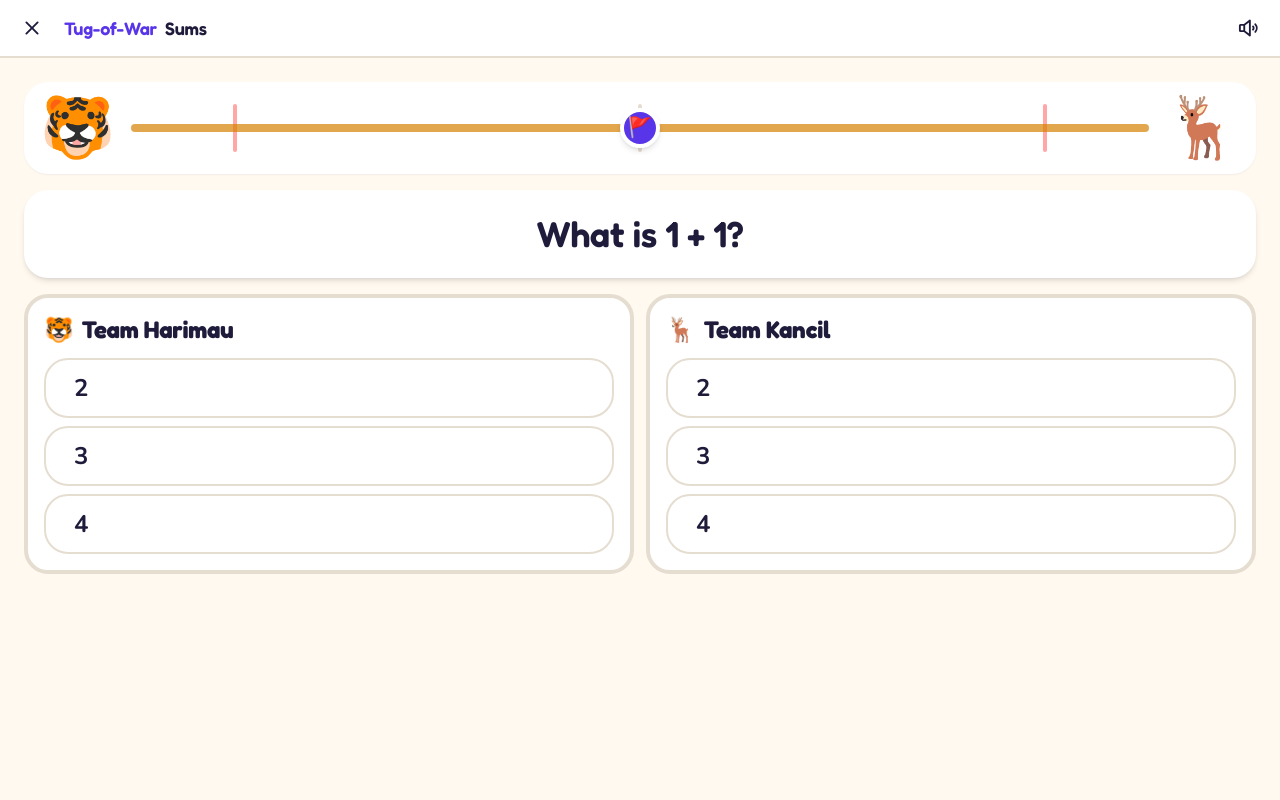
Tug-of-War › is won by the first team to pull the rope five steps
The width and height of the screenshot is (1280, 800).
Click the button named "Team Kancil: 2".
click(703, 388)  # box [666,358,1236,418]
Wait 1550 ms
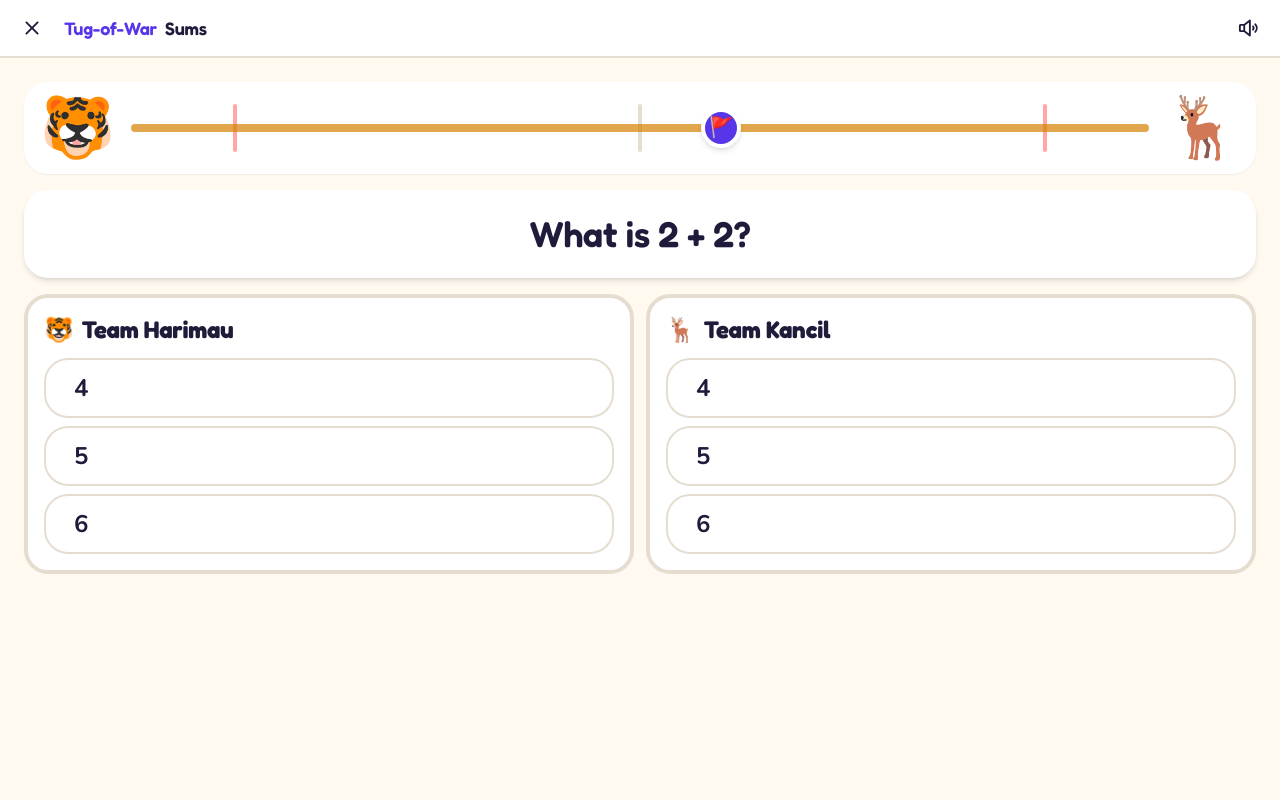
Click the button named "Team Kancil: 4".
click(703, 388)  # box [666,358,1236,418]
Wait 1550 ms
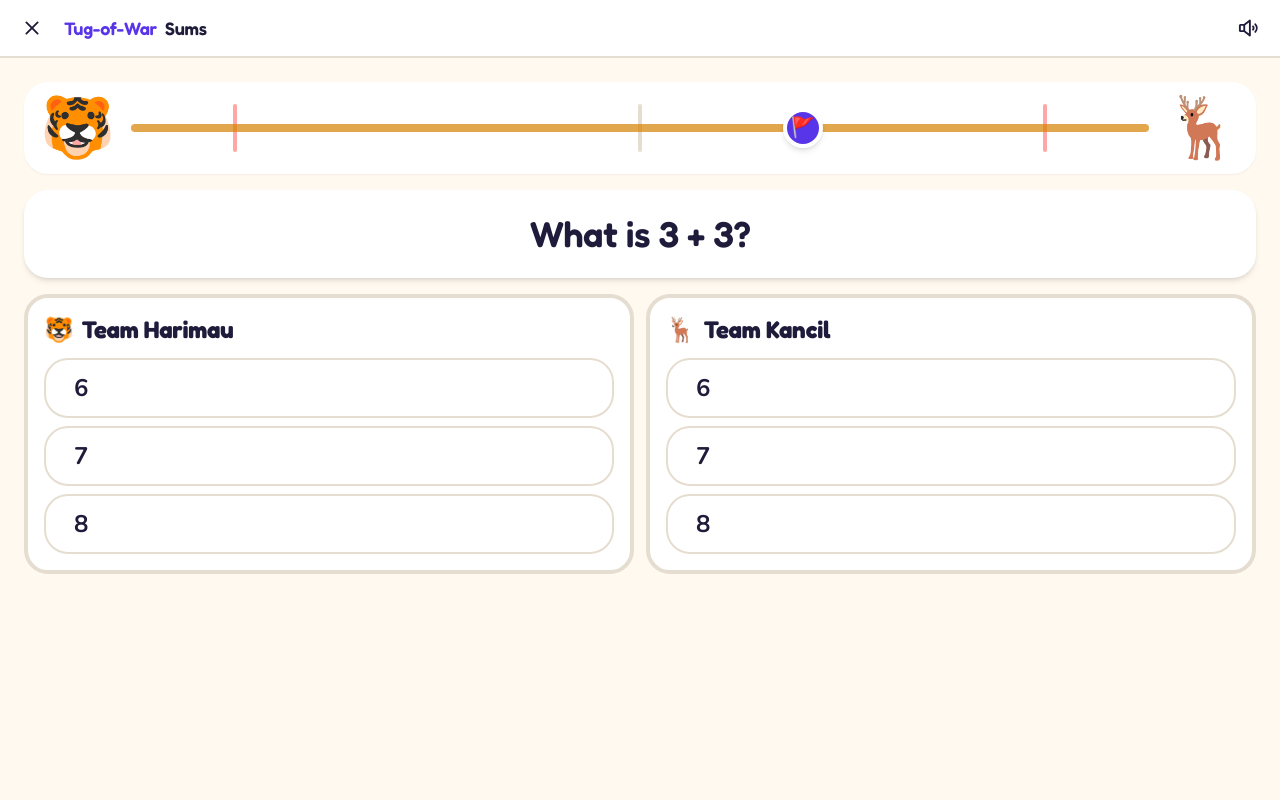
Click the button "6" below "Team Kancil".
click(703, 388)  # box [666,358,1236,418]
Wait 1550 ms
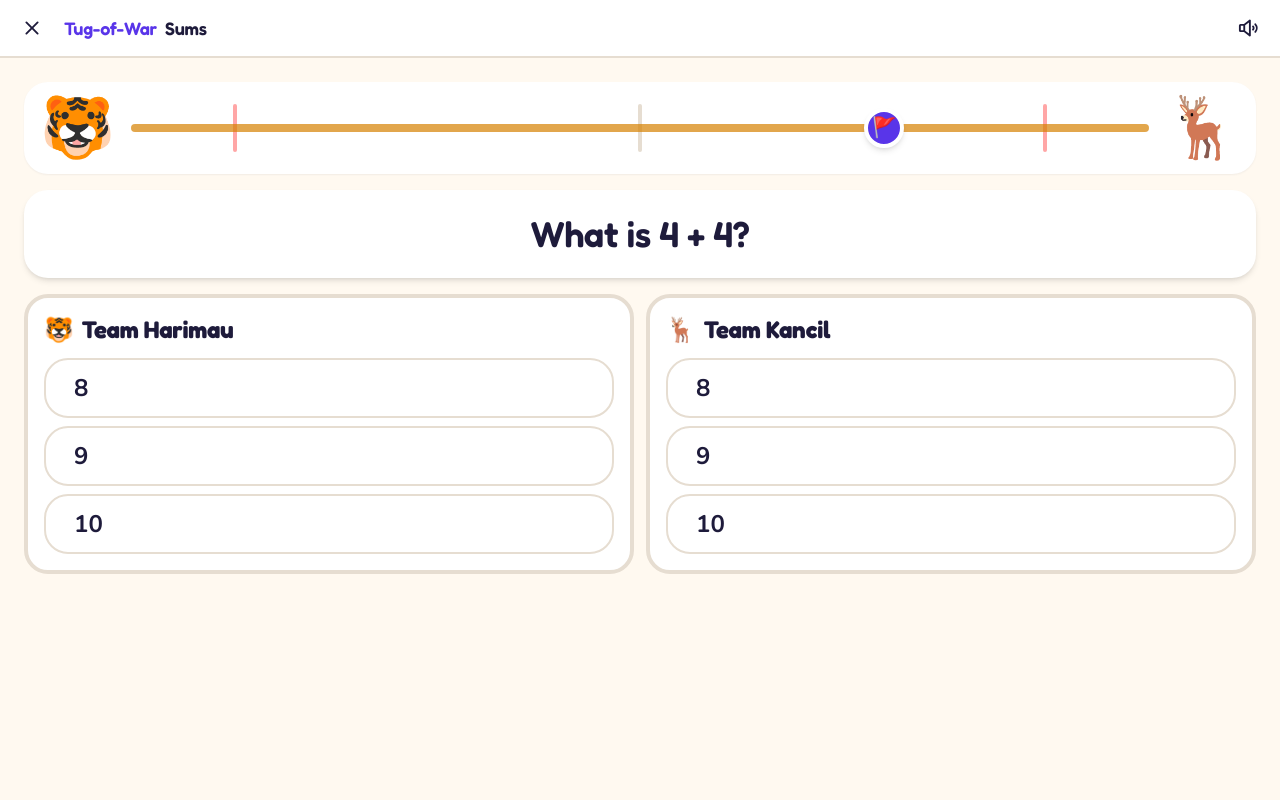
Click the button "8" below "Team Kancil".
click(703, 388)  # box [666,358,1236,418]
Wait 1550 ms
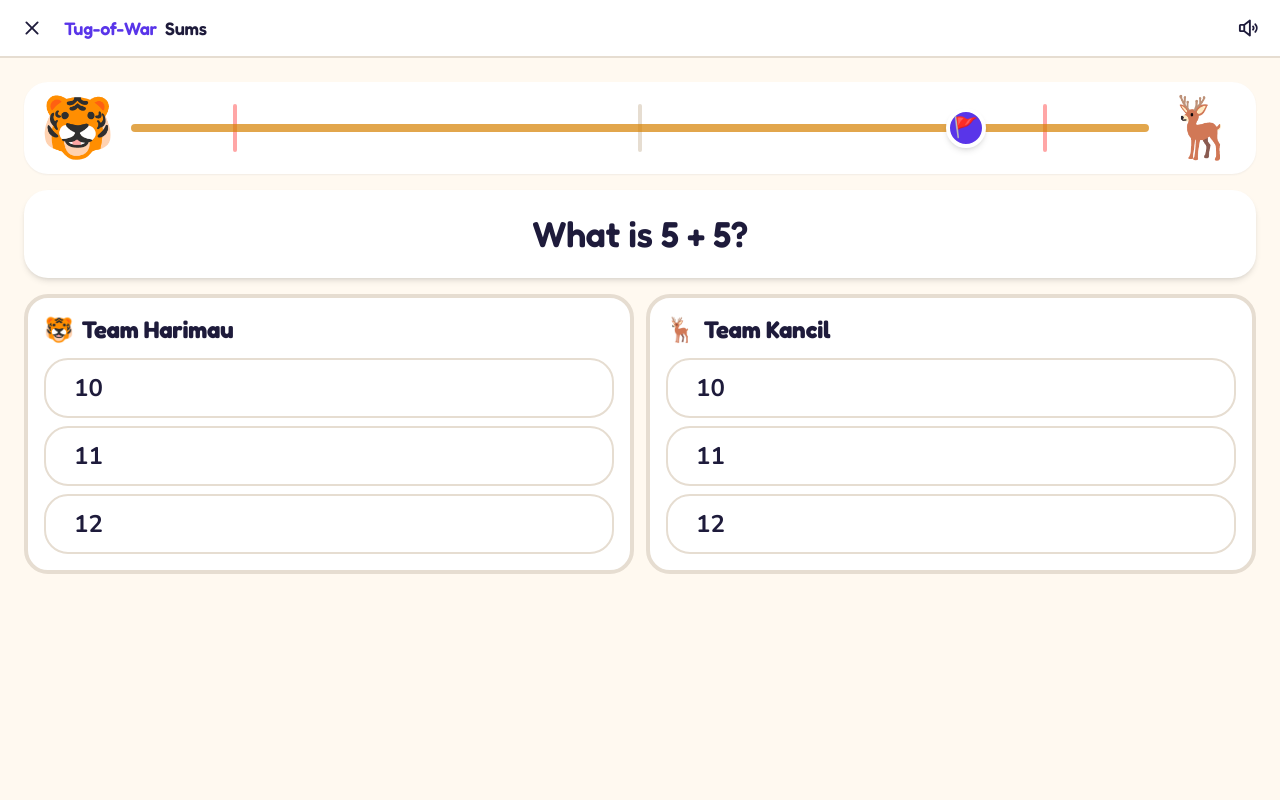
Click the button "10" below "Team Kancil".
click(710, 388)  # box [666,358,1236,418]
Wait 1550 ms
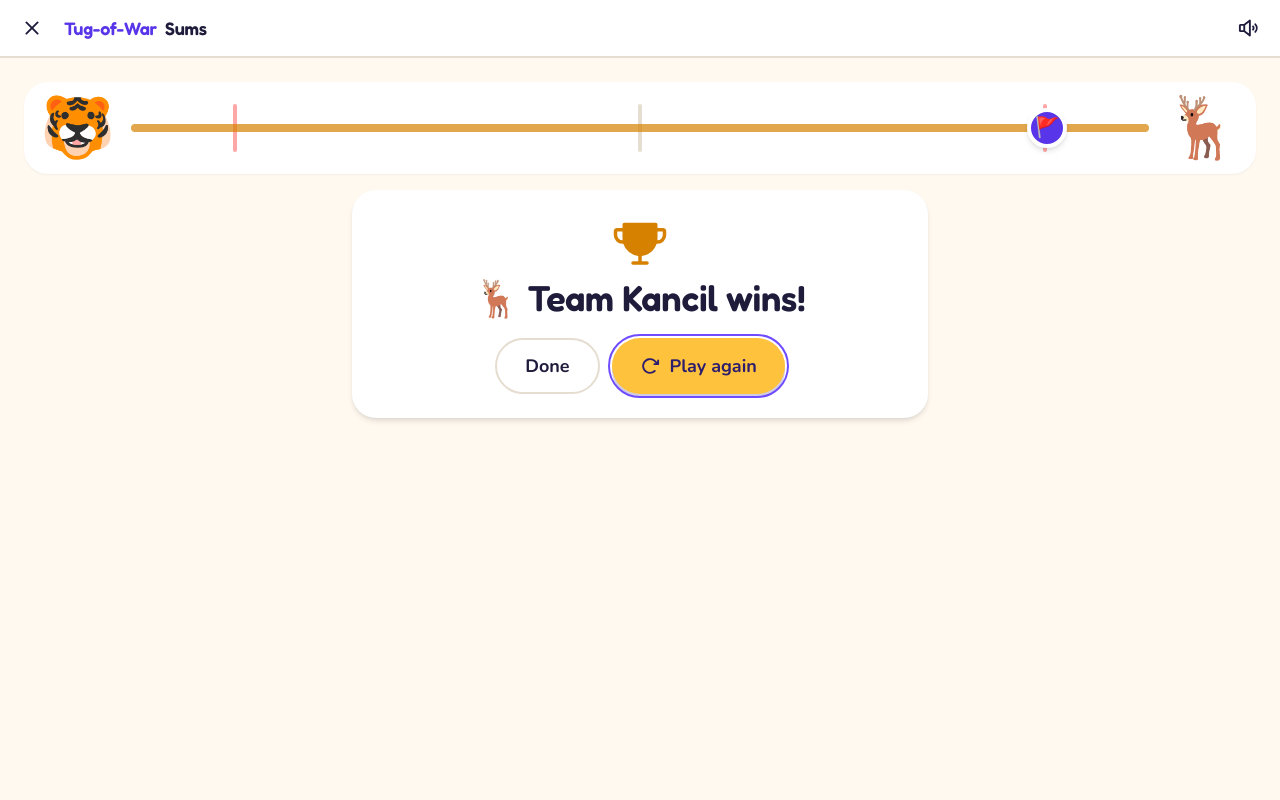
Expected: the heading "🦌 Team Kancil wins!" is shown, [475,276,805,319]
Click the button "Play again".
click(698, 366)  # box [612,338,785,394]
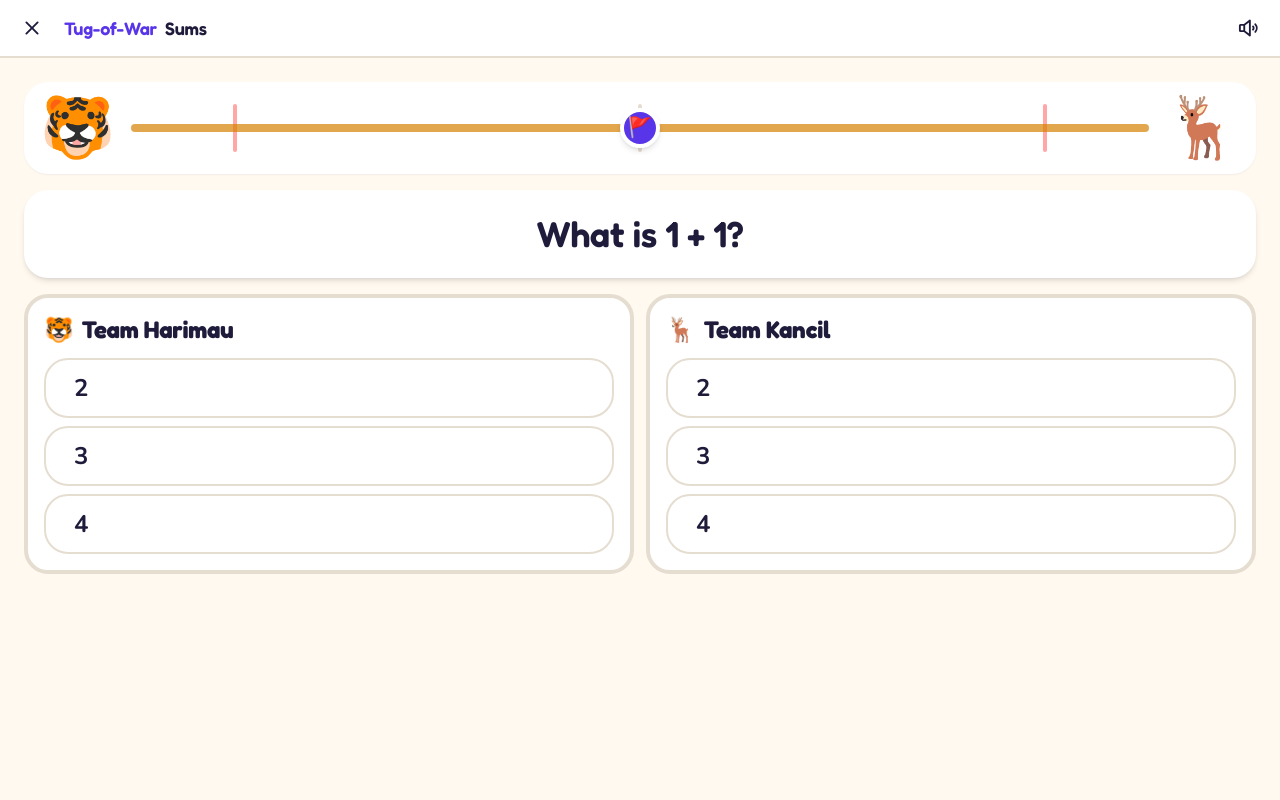
Expected: the element named "The rope: in the middle" is shown, [24,82,1256,174]
